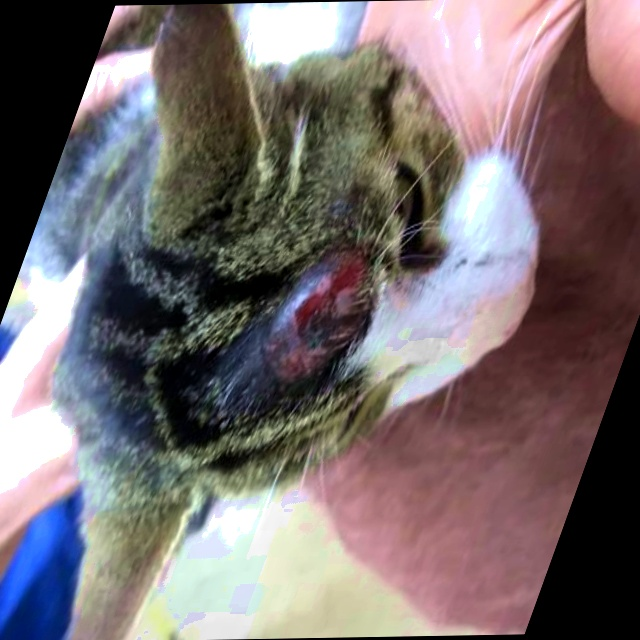lump_and_bump: (242, 242, 385, 397)
